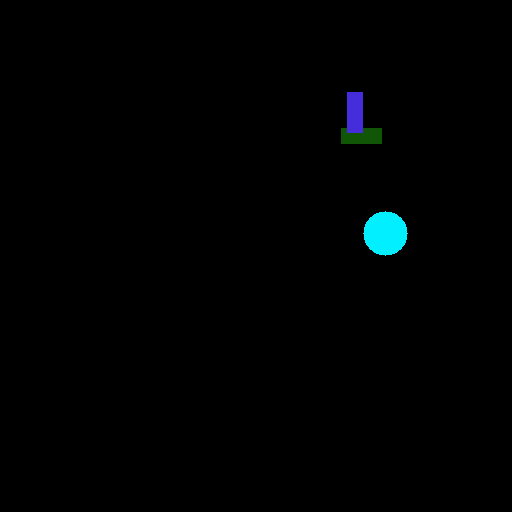circle: (363, 211, 406, 254)
side_rect: (341, 125, 386, 144)
up_rect: (346, 92, 364, 132)
